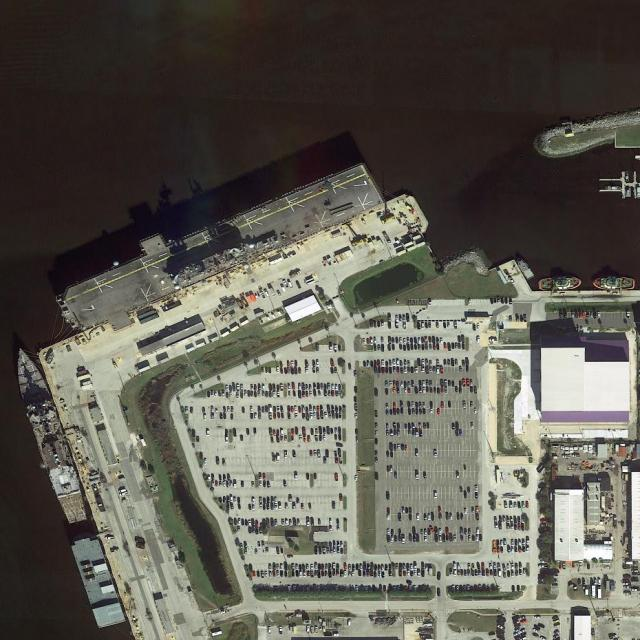Destroyer: (7, 341, 89, 527)
Landing: (55, 160, 383, 338)
